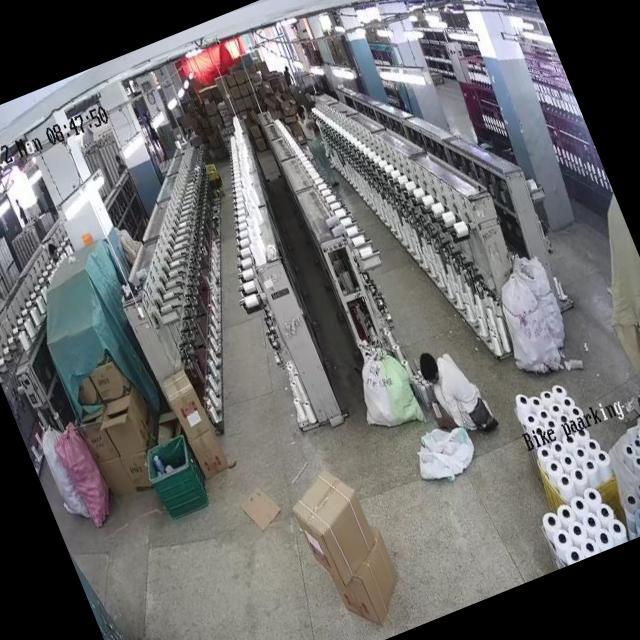person: (412, 327, 498, 449), (419, 351, 497, 432), (287, 94, 343, 190), (298, 105, 337, 187)
